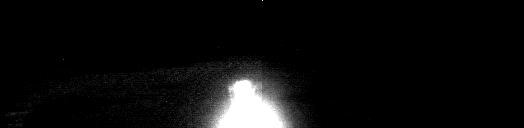positive: (226, 77, 257, 107)
